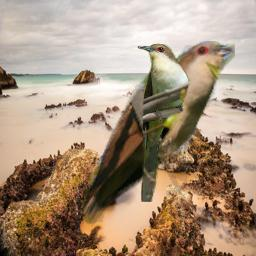Cuckoo: (75, 41, 235, 229), (137, 43, 191, 202)
